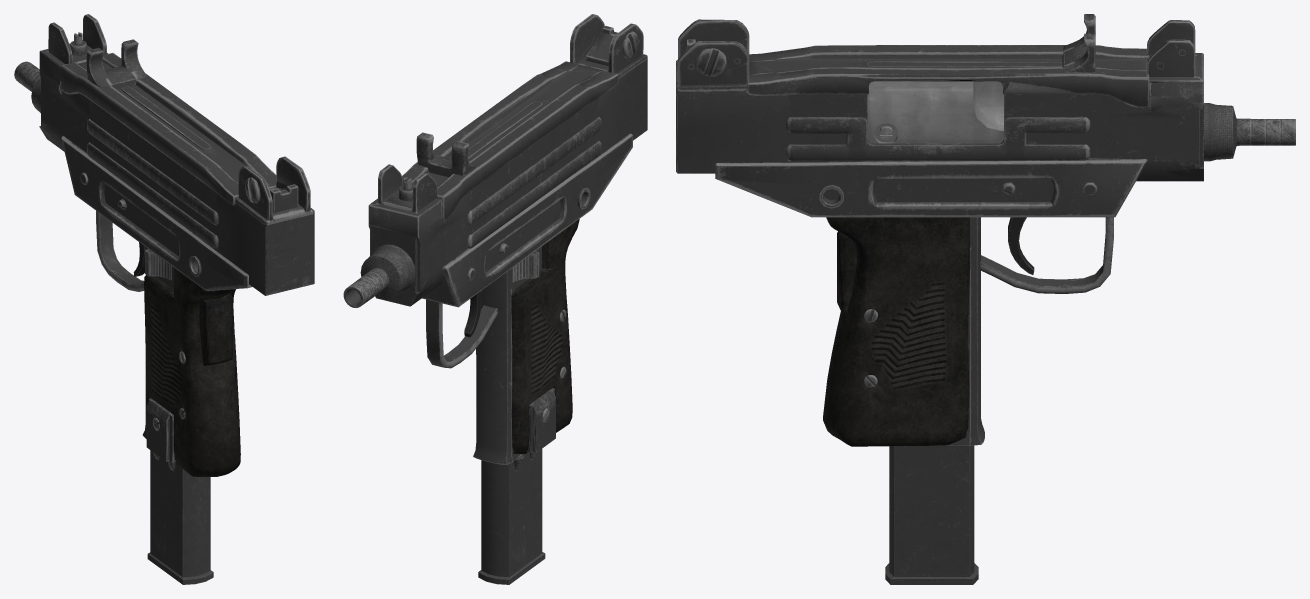
File: machine_pistol.glb
The picture shows the model from 3 angles, left to right: view 1: azimuth 30°, elevation 25°; view 2: azimuth 150°, elevation 25°; view 3: azimuth 270°, elevation 25°; orthographic projection. The views are drawn at different scales.
Visible parts, largest first — view 1: body, mag; view 2: body, mag; view 3: body, mag, slide.
Boxes of the visible parts, left/top/right/bottom form: body: left=14, top=14, right=314, bottom=476; mag: left=147, top=450, right=213, bottom=584; body: left=343, top=14, right=647, bottom=464; mag: left=478, top=449, right=545, bottom=584; body: left=676, top=14, right=1295, bottom=446; mag: left=885, top=435, right=978, bottom=584; slide: left=867, top=81, right=1003, bottom=143.
Size of the model in its own units: 0.035 by 0.2642 by 0.27.
4 materials, 4 textured.
